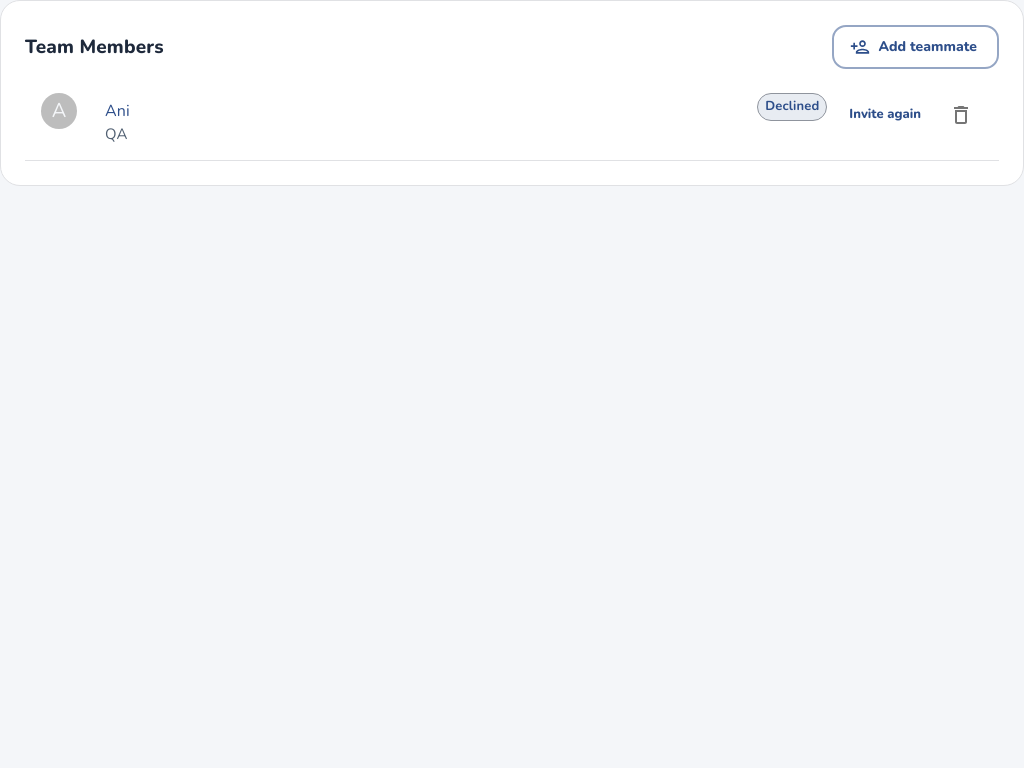
Scenario: for the owner › invites a declined person again with the same role, then refreshes and says so
Click the button with aria-label "Invite Ani again" at [885, 115], box 835,93 -> 935,137
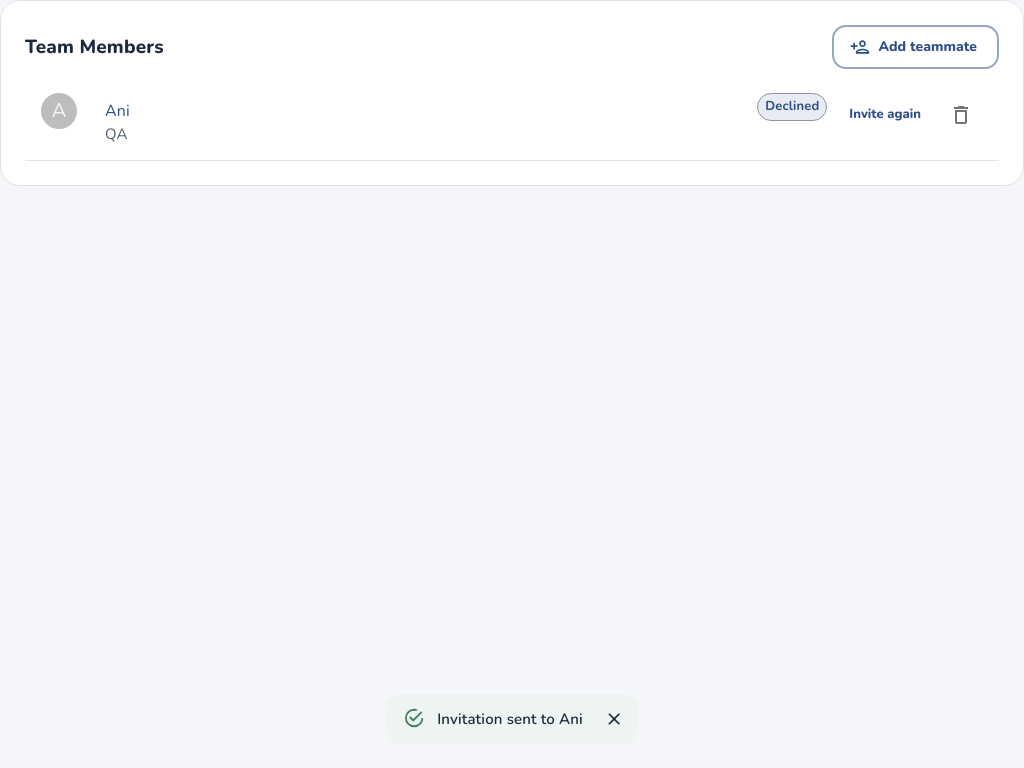
Expected: the text "Invitation sent to Ani" is shown, 437,708 -> 583,728
